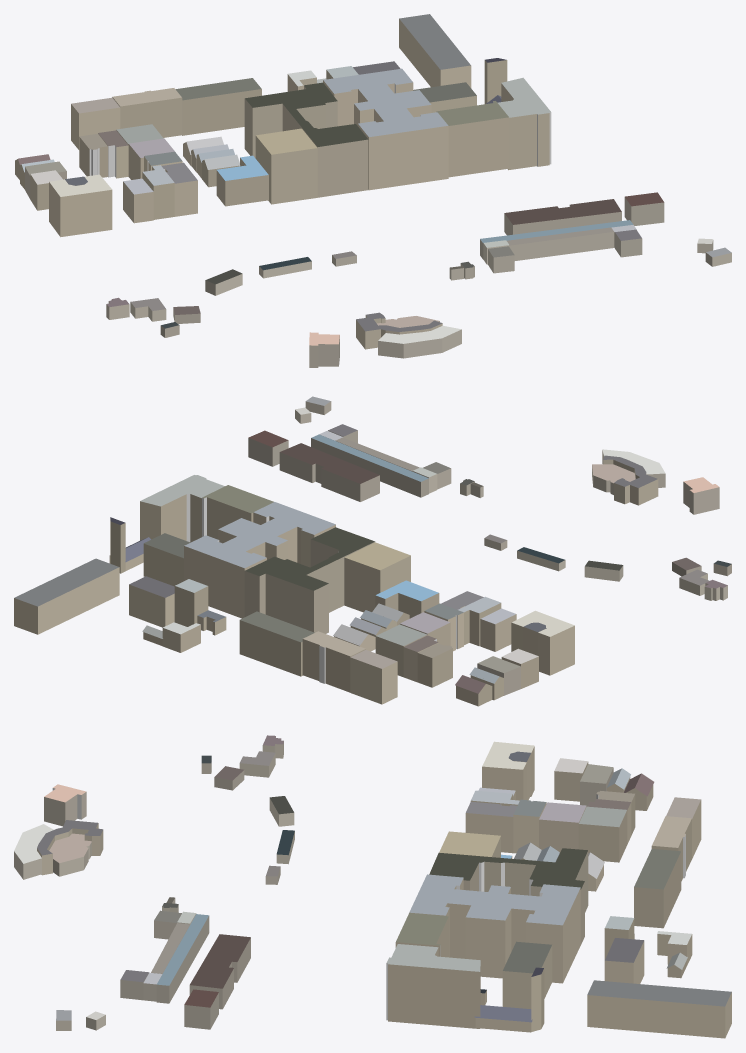
The picture shows the model from 3 angles, top to bottom: view 1: azimuth 30°, elevation 25°; view 2: azimuth 150°, elevation 25°; view 3: azimuth 270°, elevation 25°; orthographic projection. The views are drawn at different scales.
Parts seen in each view (by area): view 1: tuile; view 2: tuile; view 3: tuile.
Part boxes in pixels (x1=…): tuile: x1=15, y1=14, x2=731, y2=367; tuile: x1=14, y1=396, x2=731, y2=706; tuile: x1=14, y1=735, x2=731, y2=1038.
Bounding box in the file's own units: 248 × 24.4 × 266.
